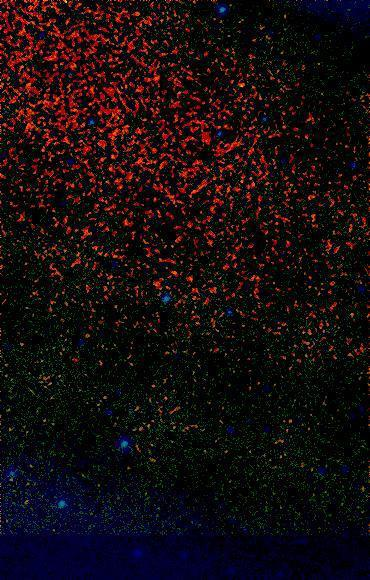star: (223, 73, 253, 103)
